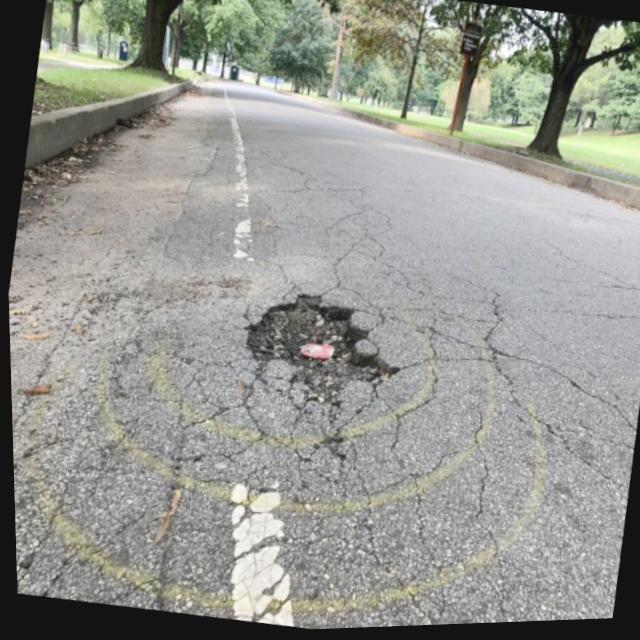Pothole: (247, 293, 392, 409)
